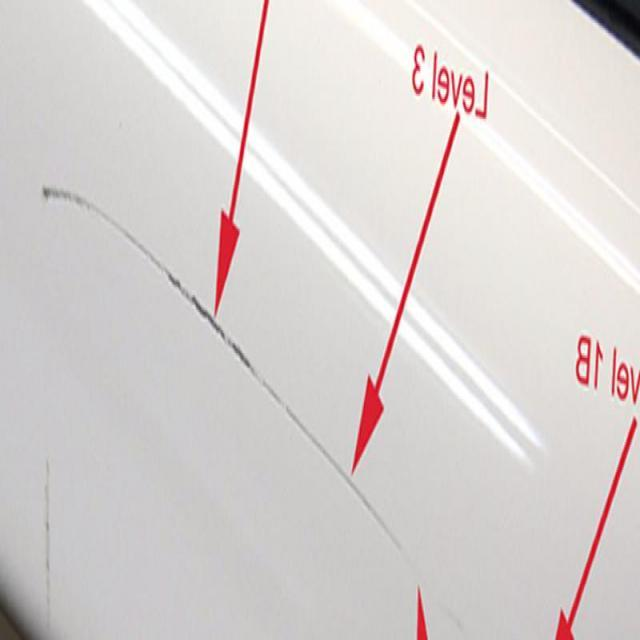scratch: (49, 170, 421, 566)
